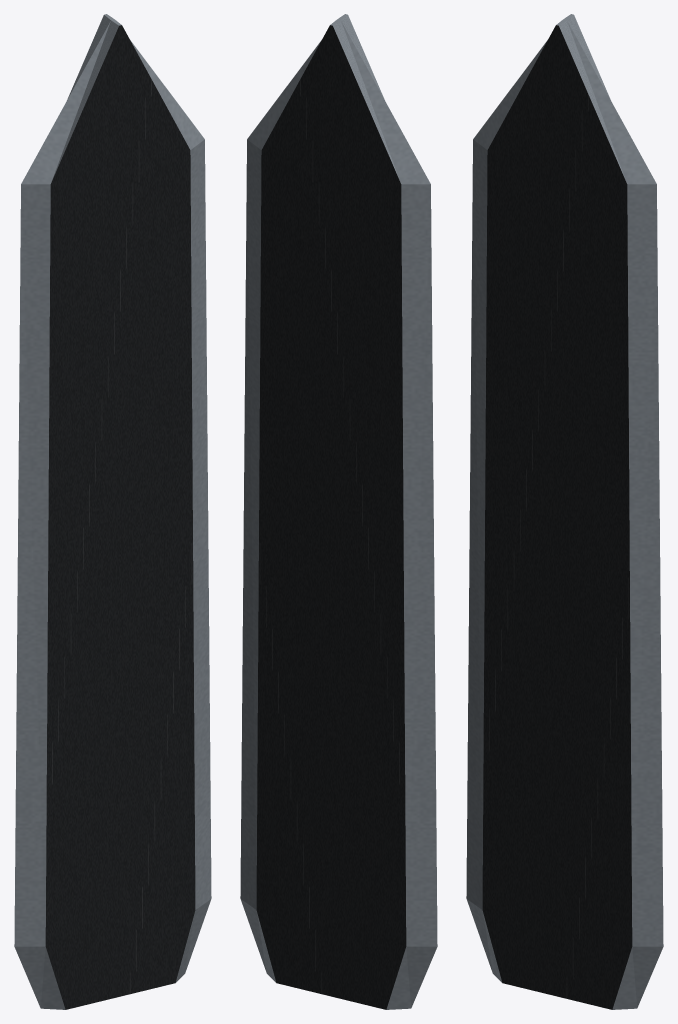
Rendered from dragonslayer_blade.fbx.
The picture shows the model from 3 angles, left to right: view 1: azimuth 30°, elevation 25°; view 2: azimuth 150°, elevation 25°; view 3: azimuth 330°, elevation 25°; orthographic projection.
Visible parts, largest first — view 1: dragonslayer_blade; view 2: dragonslayer_blade; view 3: dragonslayer_blade.
Boxes of the visible parts, <box> form: dragonslayer_blade: <box>14,14,211,1009</box>; dragonslayer_blade: <box>240,14,437,1009</box>; dragonslayer_blade: <box>466,14,663,1009</box>.
Size of what is drawn, in the model's own units: 0.21 by 0.028 by 0.989.
1 material, 1 textured.
